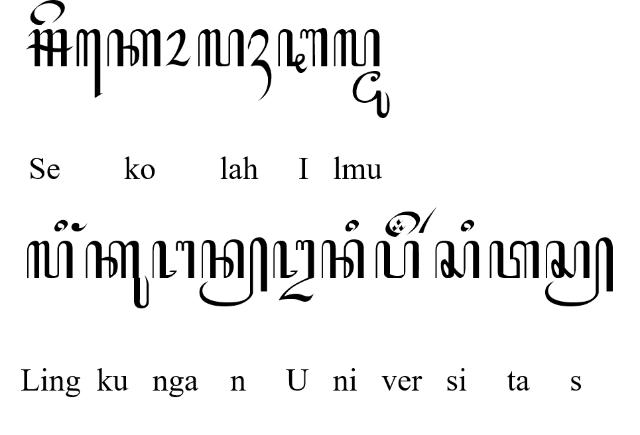-n: (198, 236, 268, 308)
-s: (544, 236, 614, 306)
I: (276, 27, 328, 73)
S: (27, 28, 73, 68)
U: (272, 238, 316, 302)
_h1: (248, 28, 272, 102)
_mu: (352, 69, 391, 119)
_r1: (418, 207, 438, 234)
e: (31, 0, 65, 26)
e1: (76, 29, 104, 99)
ealt: (384, 210, 420, 237)
i: (52, 219, 68, 232), (344, 219, 360, 232), (460, 219, 474, 233)
k: (106, 28, 162, 68)
ku: (85, 238, 149, 310)
l: (332, 28, 382, 68), (198, 27, 245, 67), (26, 240, 74, 278)
n: (321, 240, 365, 278)
ng: (72, 221, 88, 230)
nga: (152, 240, 194, 278)
o: (164, 28, 192, 68)
p: (374, 241, 420, 280)
s: (434, 240, 480, 278)
t: (488, 240, 540, 281)
